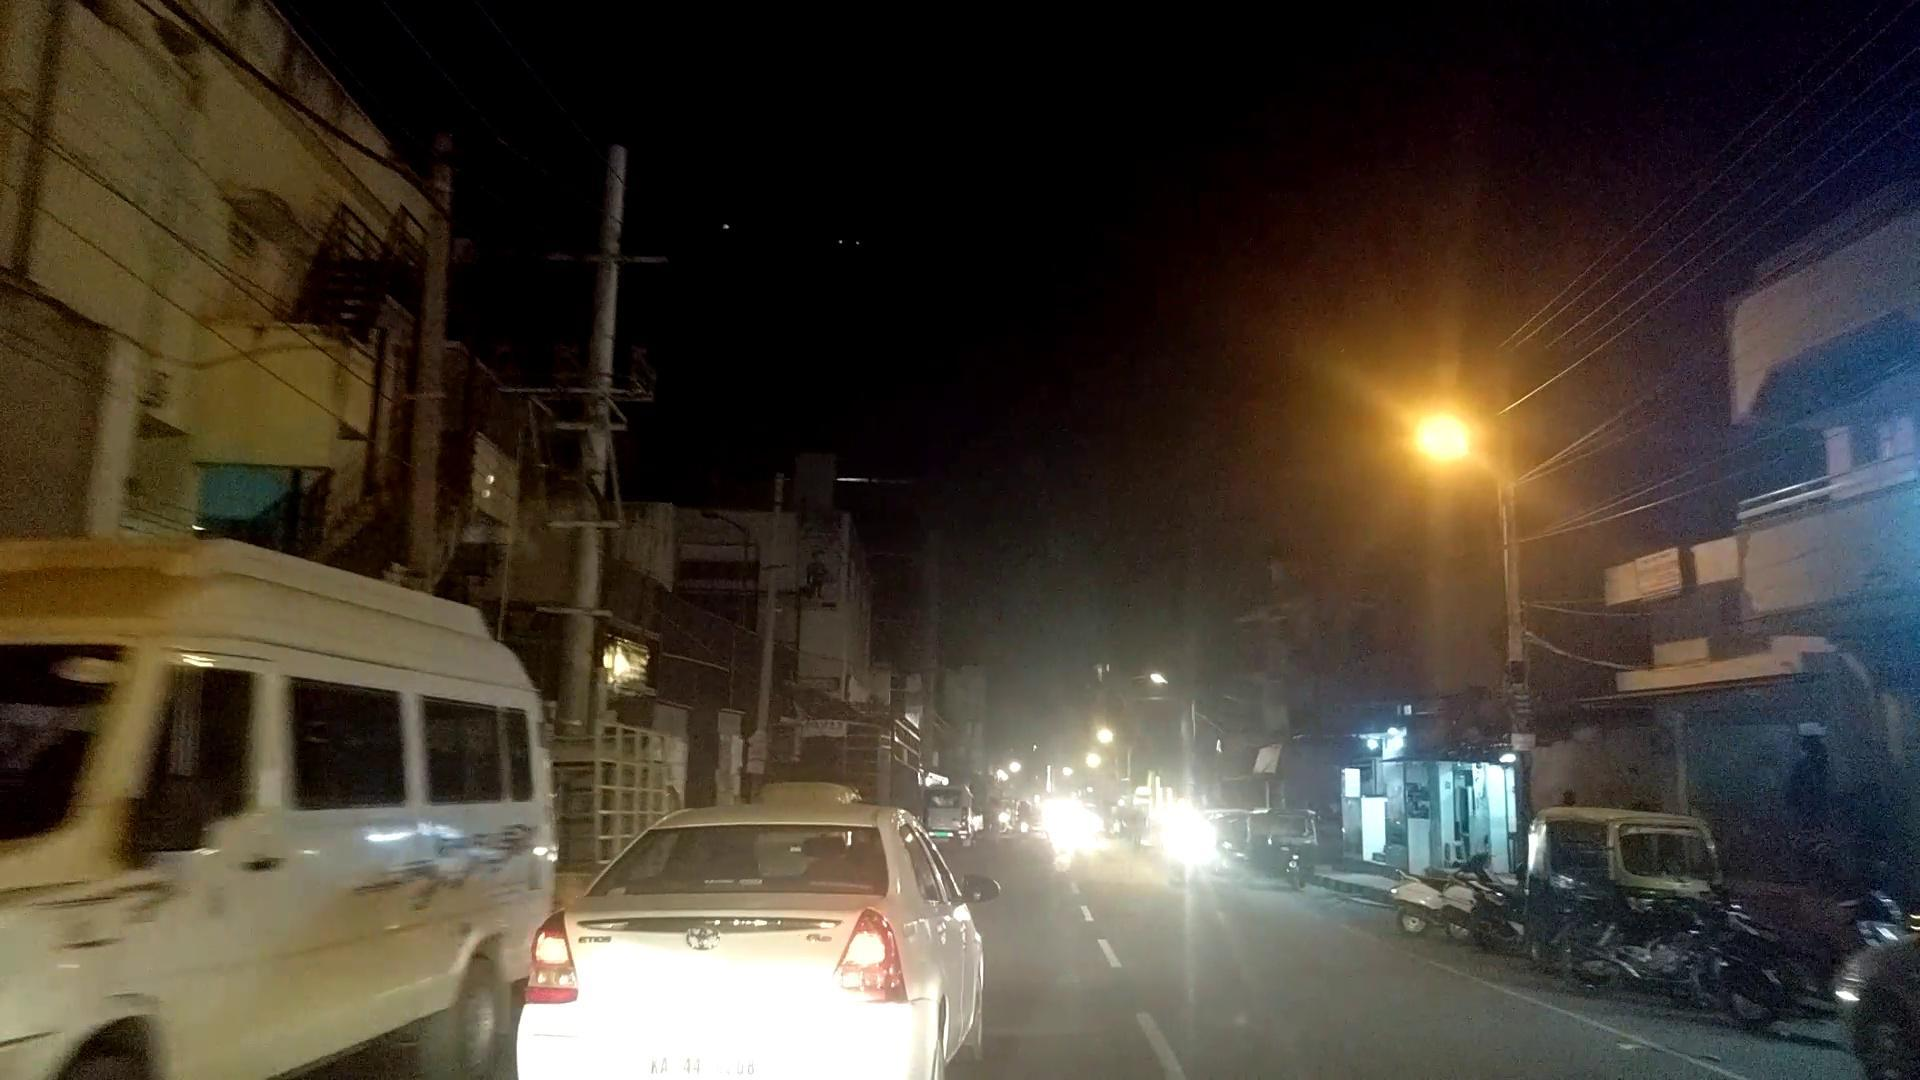on: (1320, 322, 1567, 595)
